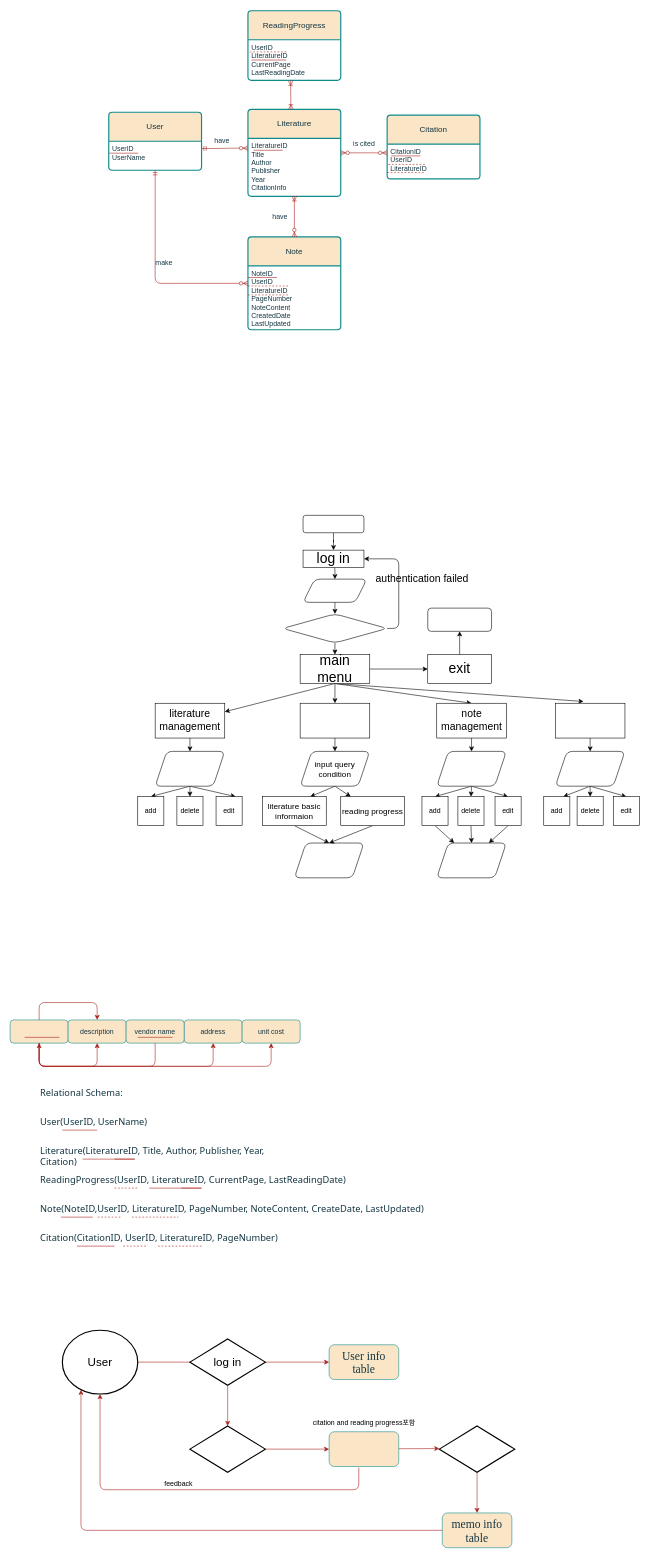
Image size: 650x1558. Some labels were removed from this diagram. The centre of each missing label's shape, as x and y in pixels:
add memo/review: (x=476, y=1449)
add/delete/ edit/query: (x=227, y=1449)
end: (x=459, y=619)
enter id and password: (x=334, y=590)
input literature info: (x=190, y=768)
input note info: (x=471, y=768)
input user info: (x=590, y=768)
Literature info table: (x=364, y=1449)
literature query result record: (x=329, y=860)
literature search: (x=335, y=720)
log in authentication: (x=334, y=628)
memo info result record: (x=471, y=860)
part number: (x=39, y=1031)
start: (x=333, y=524)
user management: (x=590, y=720)
